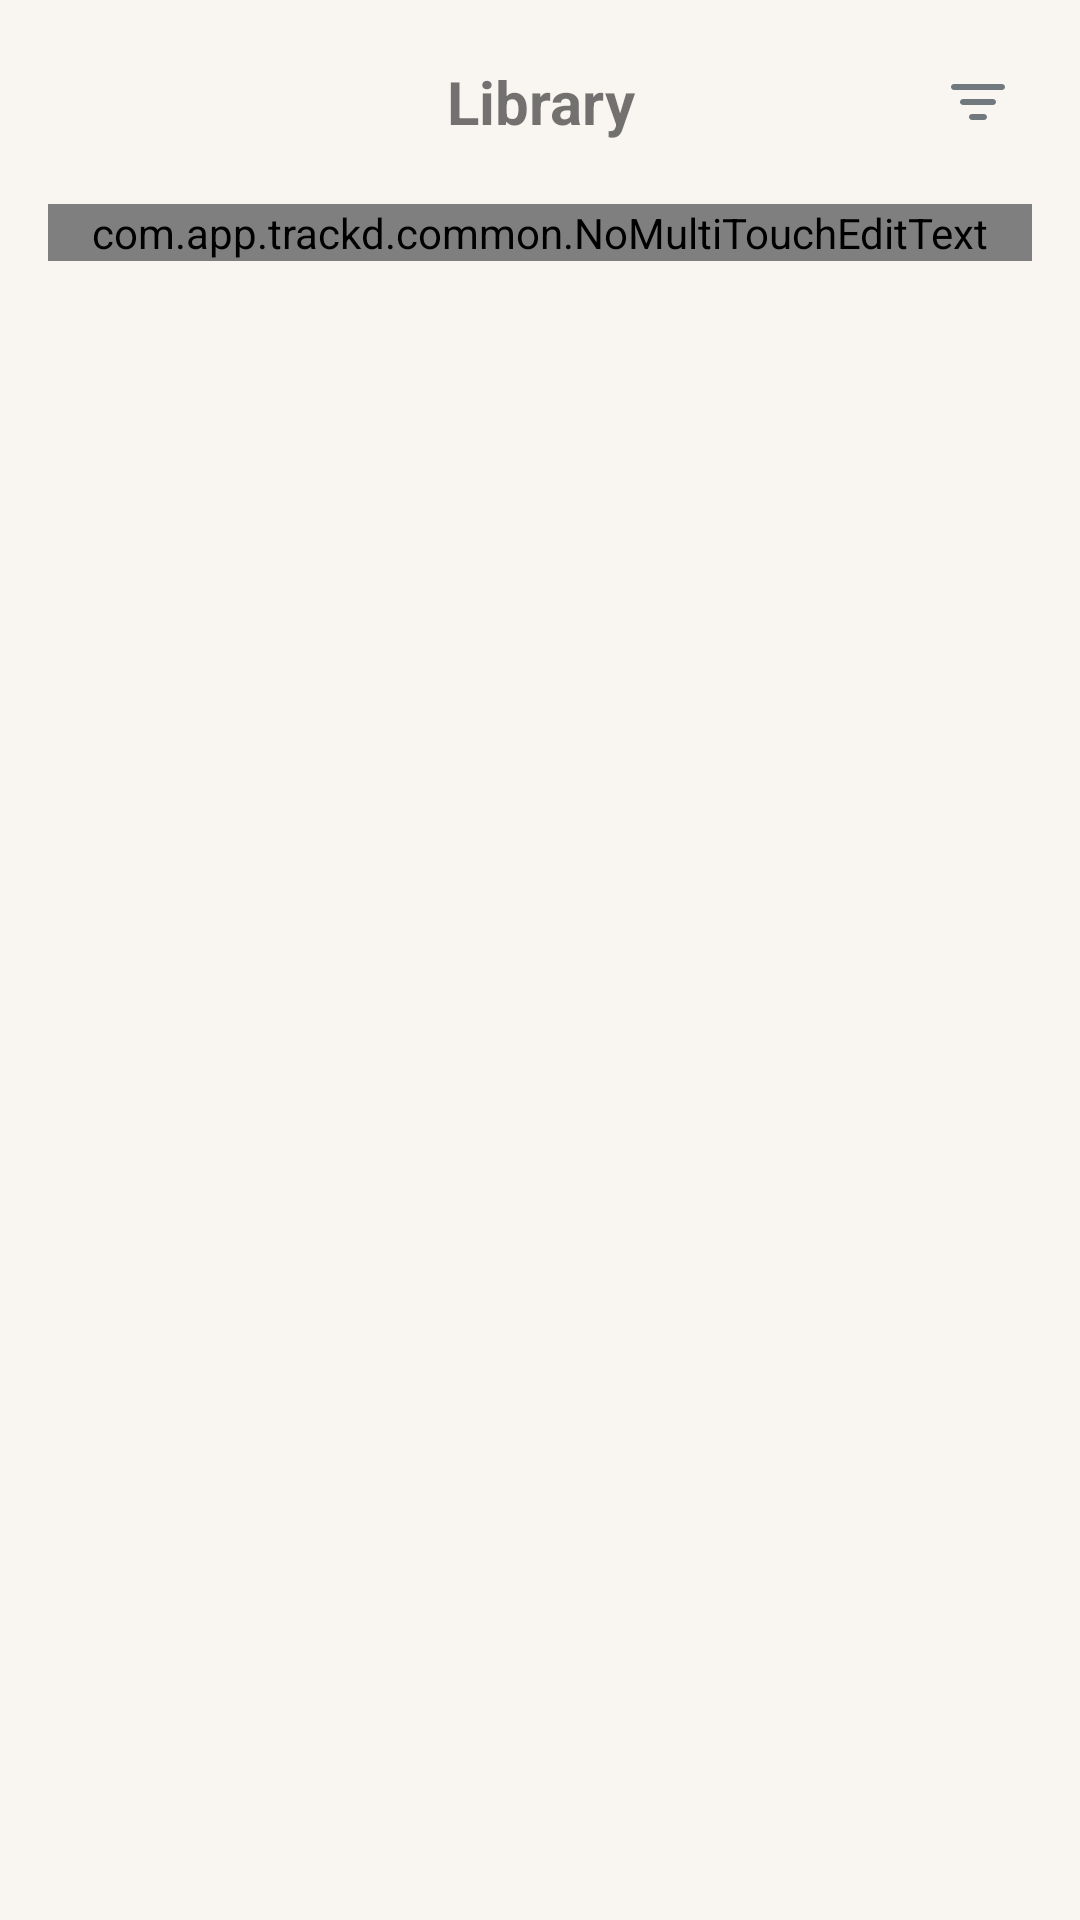

Screen size 1080px×1920px. Icon name, then its box in pixels as (x1, y1, x2, y2):
Filter albums: (951, 84, 1005, 120)
